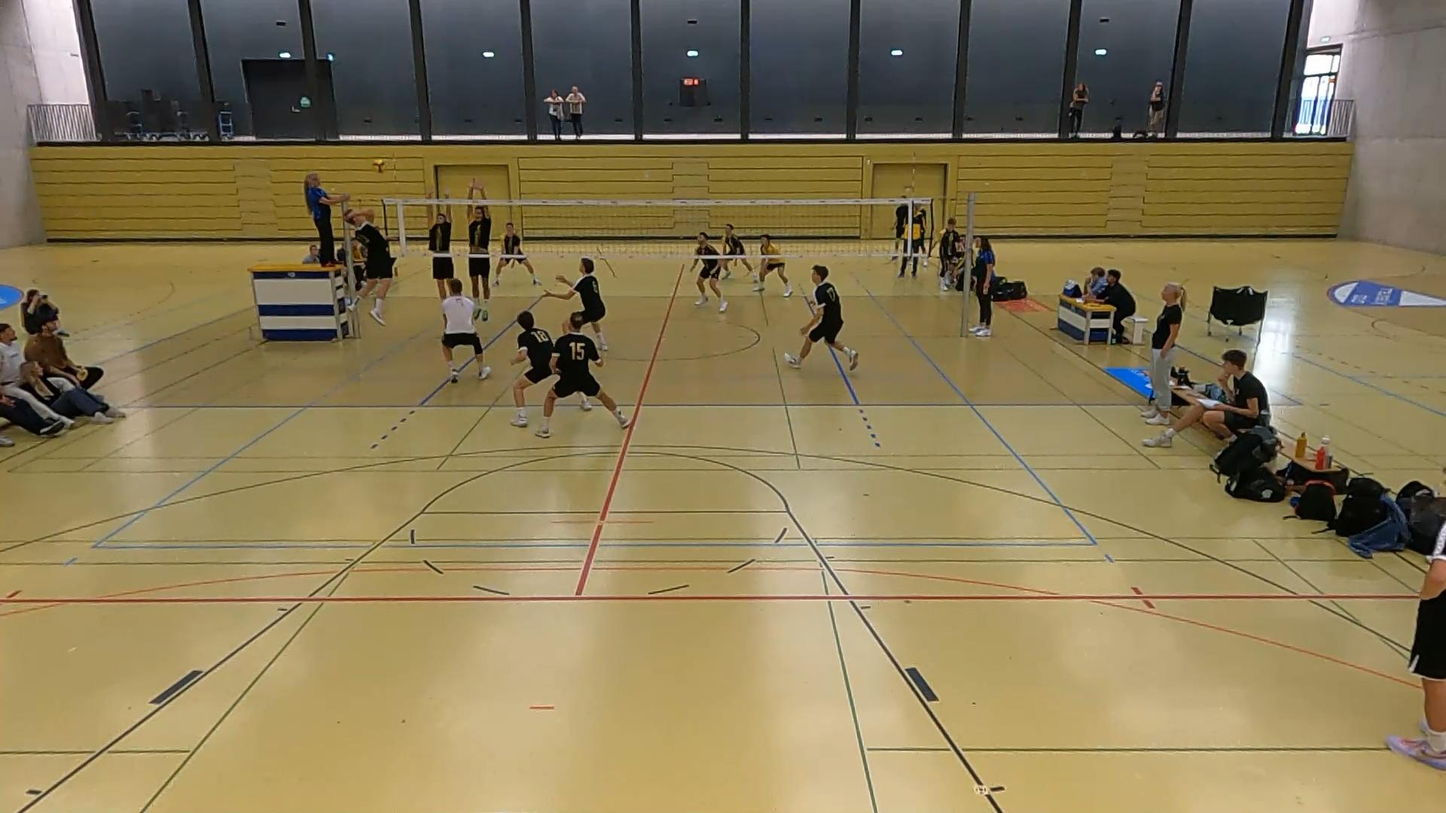Attack: (334, 202, 399, 333)
Block: (420, 186, 457, 331), (462, 178, 498, 324)
Player: (535, 312, 629, 437), (784, 265, 858, 370), (543, 257, 607, 351), (441, 277, 490, 382), (511, 311, 554, 426), (690, 232, 727, 312), (497, 222, 540, 285), (753, 234, 792, 297), (721, 224, 757, 281)
ball: (370, 156, 388, 176)
